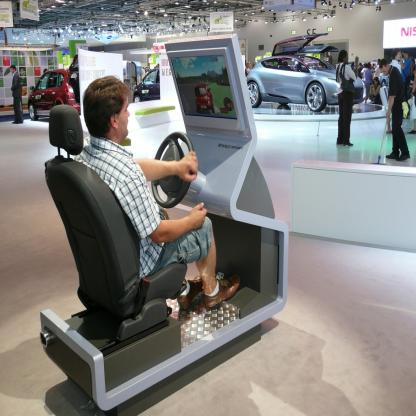Car: (248, 34, 364, 114), (30, 60, 80, 120), (133, 67, 161, 107)
